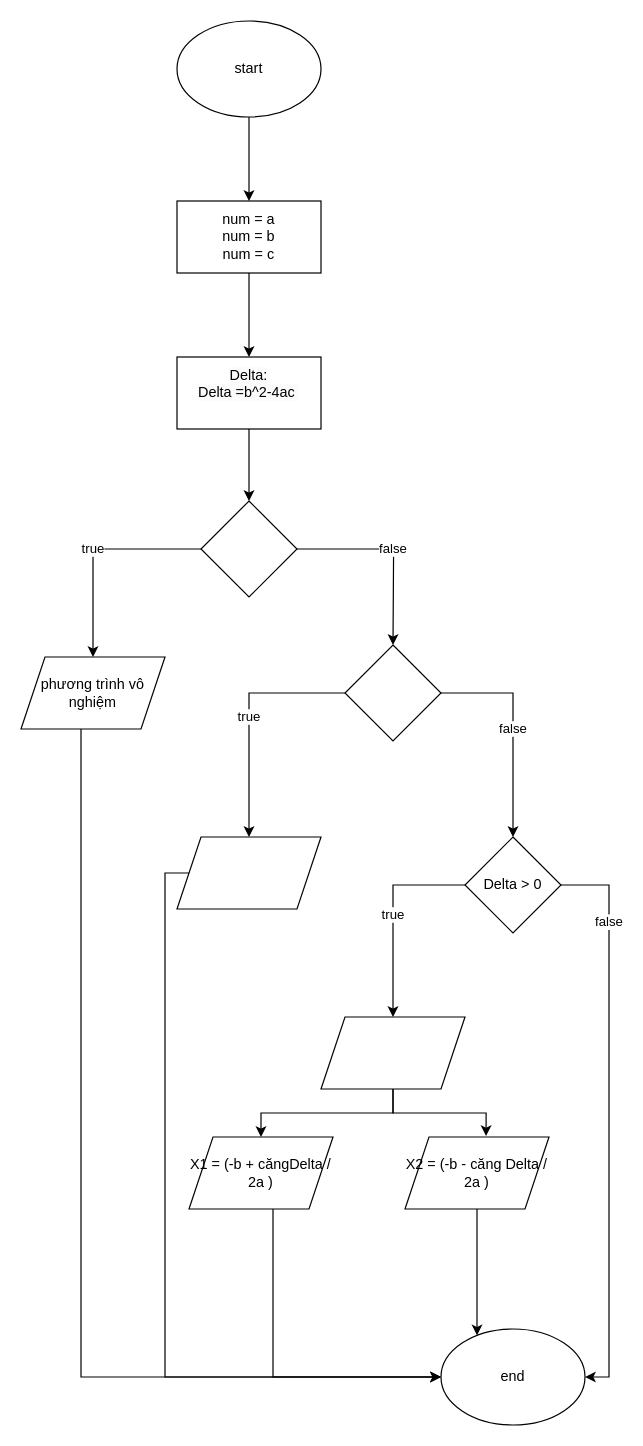
This 643x1446 diagram has some shape labels left out. Here are the shapes that lost their labels. From the top down, the centre of each, then its label:
At point 248,548: "Delta < 0".
At point 392,692: "Delta = 0".
At point 248,872: "nghiệm kép: X = -b/2a".
At point 392,1052: "phương trình có 2 nghiệm phân biệt".
